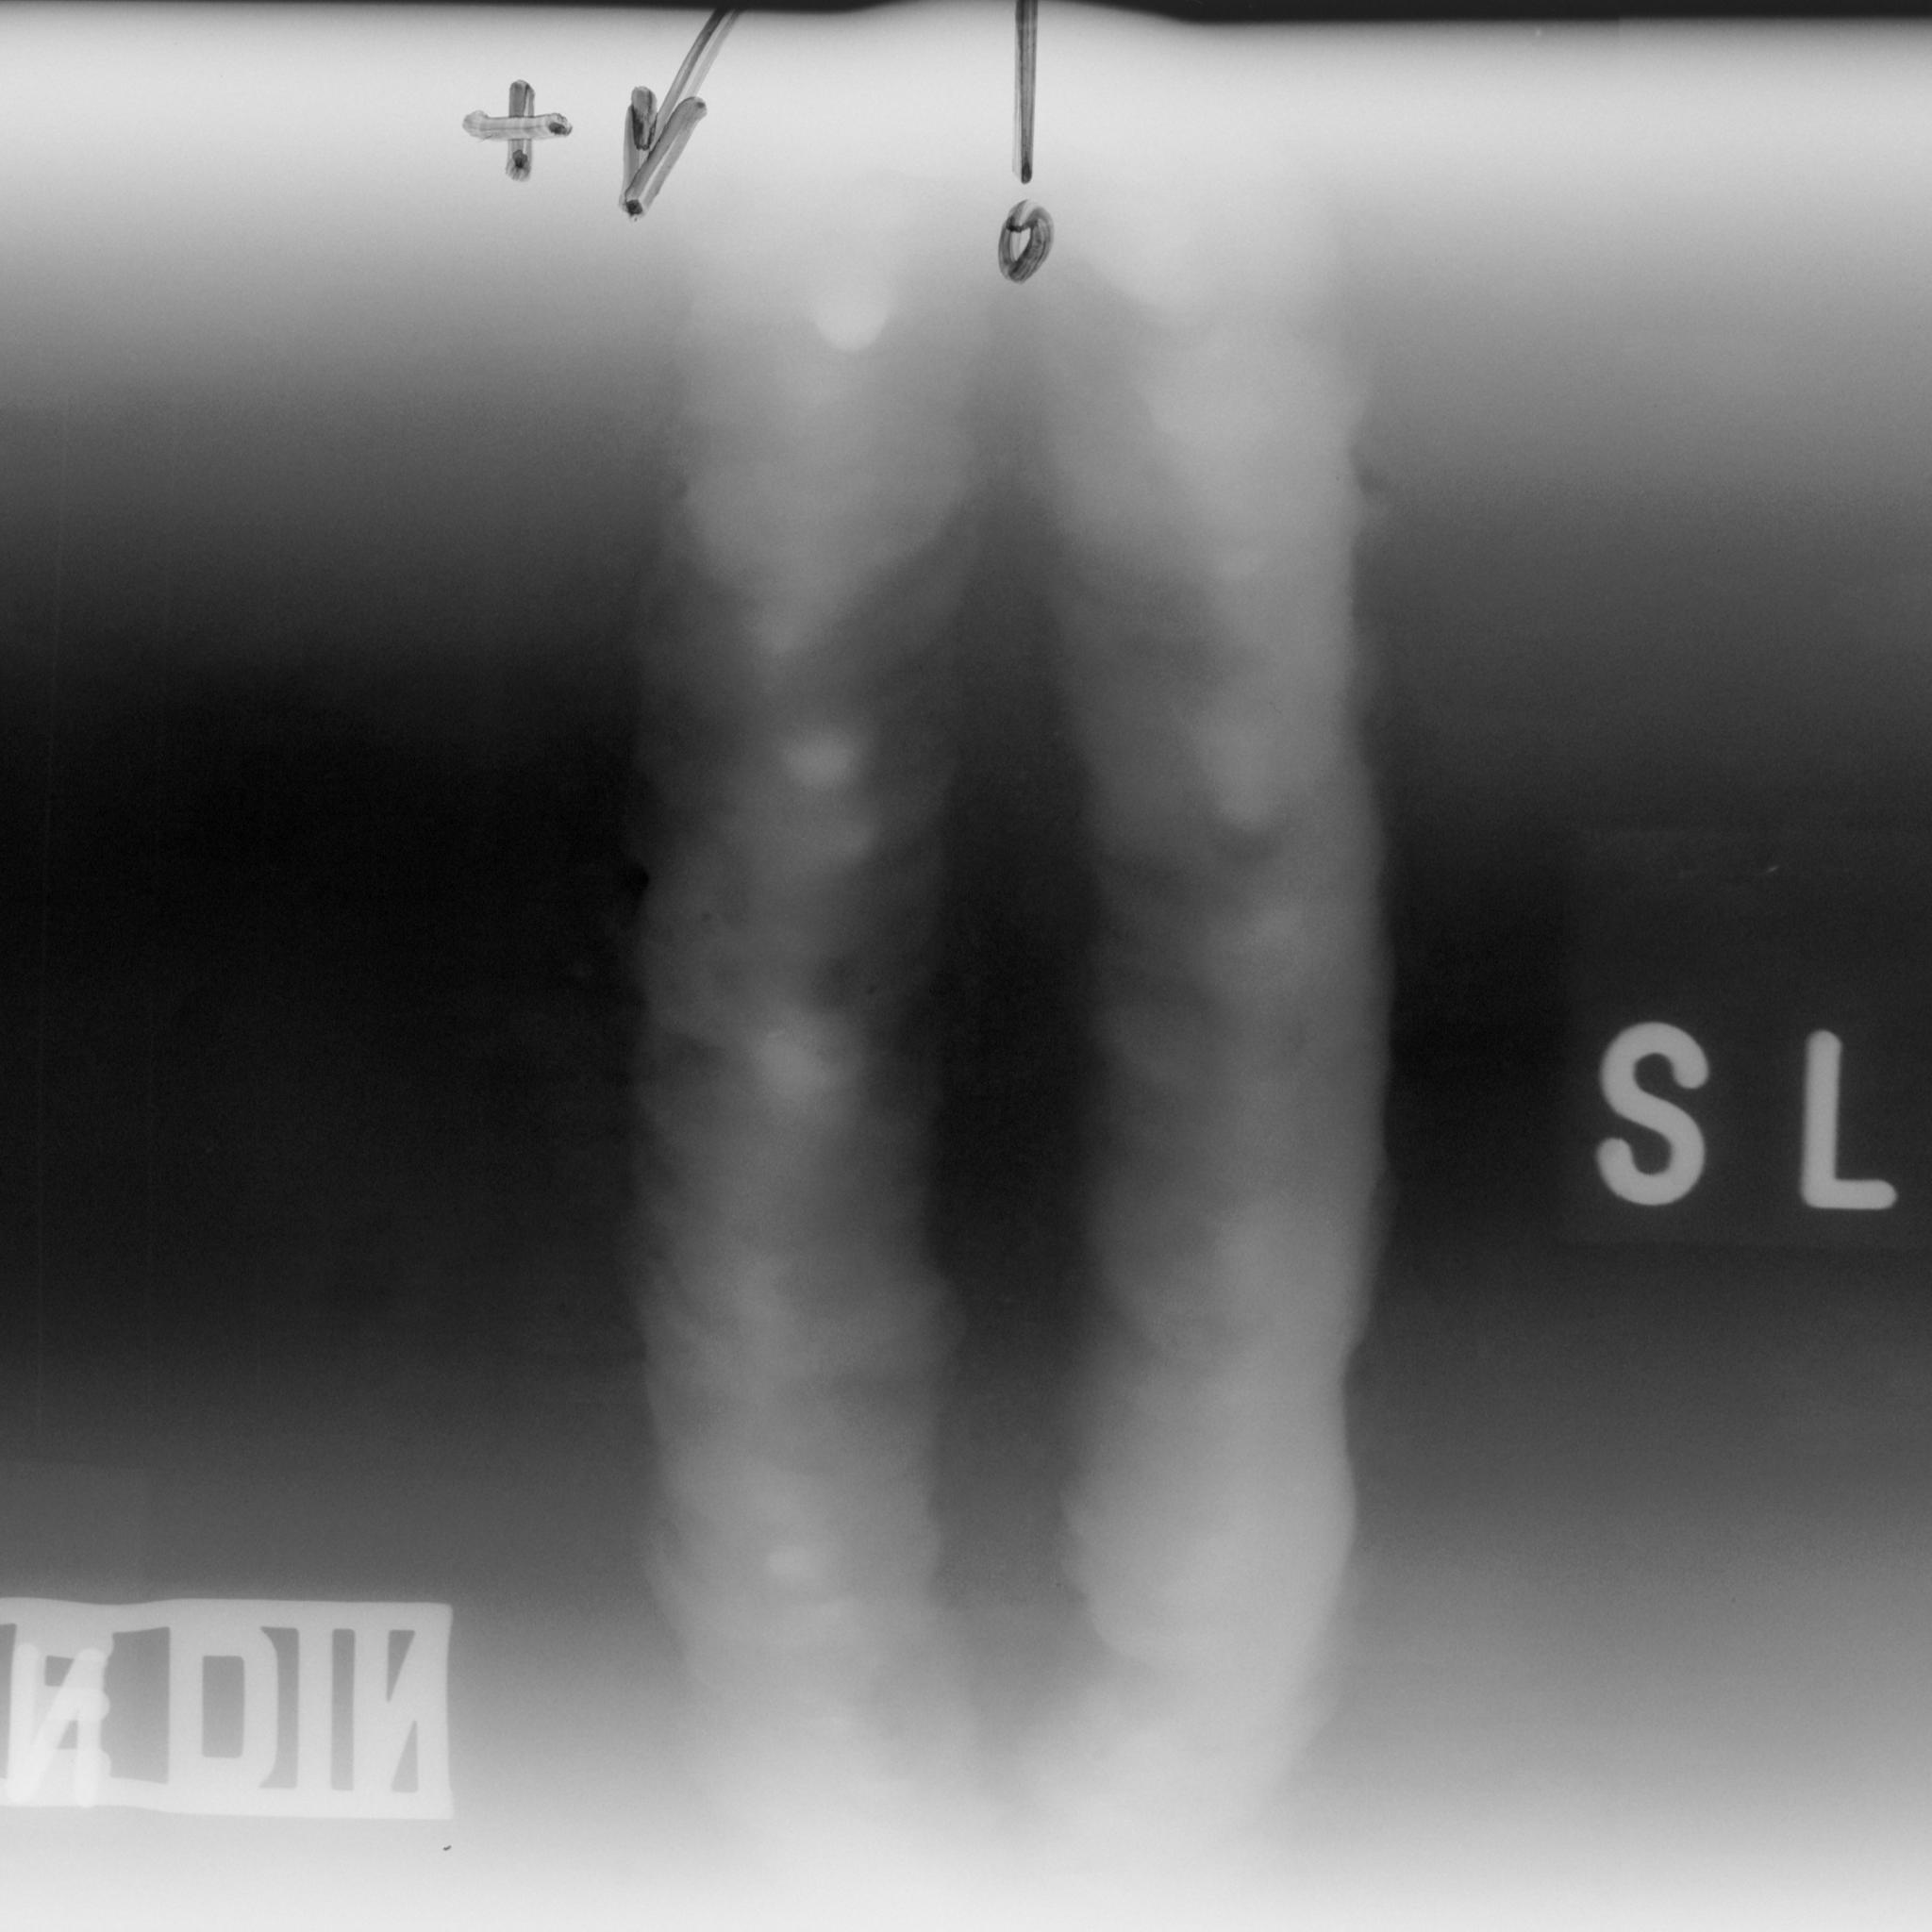Solda Ruim: (611, 328, 1033, 1753)
